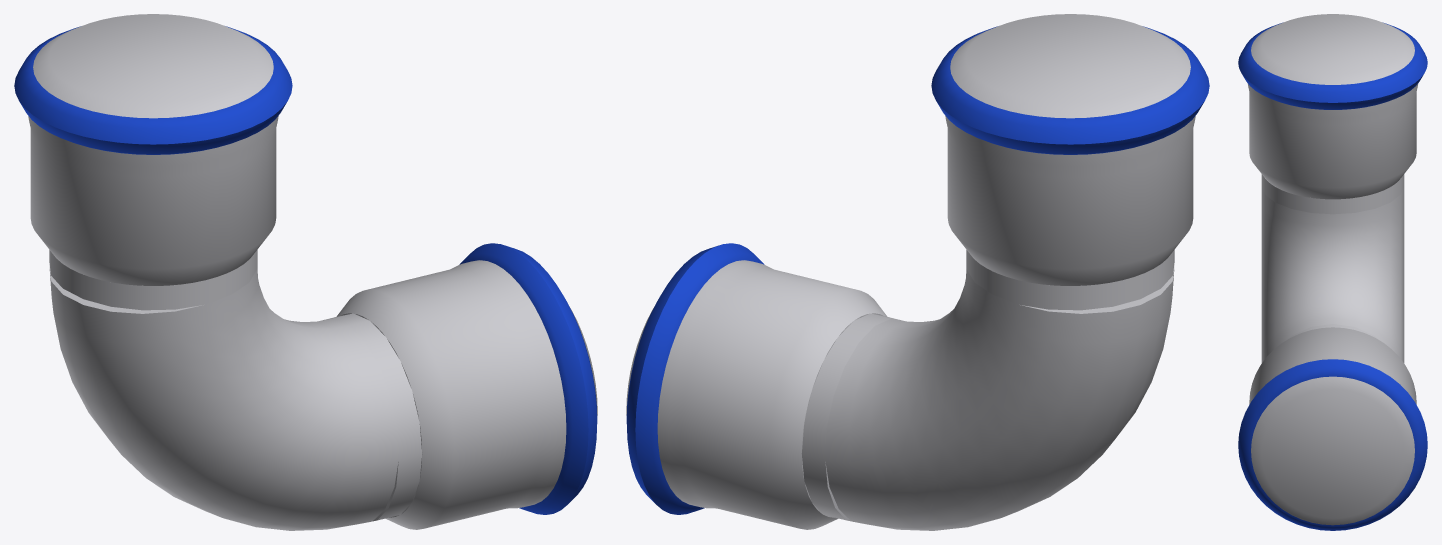
The model's file is fitting_e90_28.glb.
The picture shows the model from 3 angles, left to right: view 1: azimuth 30°, elevation 25°; view 2: azimuth 150°, elevation 25°; view 3: azimuth 270°, elevation 25°; orthographic projection. The views are drawn at different scales.
Visible parts, largest first — view 1: изгиб, раструб.001, раструб, кольцо пресс.001, кольцо пресс, корпус.001, корпус; view 2: изгиб, раструб.001, раструб, кольцо пресс.001, кольцо пресс, корпус.001, корпус; view 3: раструб, раструб.001, изгиб, кольцо пресс, кольцо пресс.001, корпус.001, корпус.
Part boxes in pixels (x1,y1,x2,y2): изгиб: [49, 266, 398, 530]; раструб.001: [28, 14, 278, 285]; раструб: [336, 260, 597, 529]; кольцо пресс.001: [14, 26, 292, 154]; кольцо пресс: [459, 243, 597, 514]; корпус.001: [49, 250, 257, 310]; корпус: [323, 313, 422, 521]; изгиб: [825, 266, 1174, 530]; раструб.001: [945, 14, 1195, 285]; раструб: [626, 260, 887, 529]; кольцо пресс.001: [931, 26, 1209, 154]; кольцо пресс: [626, 243, 764, 514]; корпус.001: [966, 250, 1174, 310]; корпус: [801, 313, 900, 521]; раструб: [1249, 327, 1416, 525]; раструб.001: [1247, 14, 1418, 199]; изгиб: [1261, 186, 1404, 362]; кольцо пресс: [1238, 359, 1427, 530]; кольцо пресс.001: [1238, 22, 1427, 109]; корпус.001: [1261, 174, 1404, 214]; корпус: [1287, 324, 1378, 339].
Size of the model in its own units: 0.0876 by 0.0876 by 0.0412.
